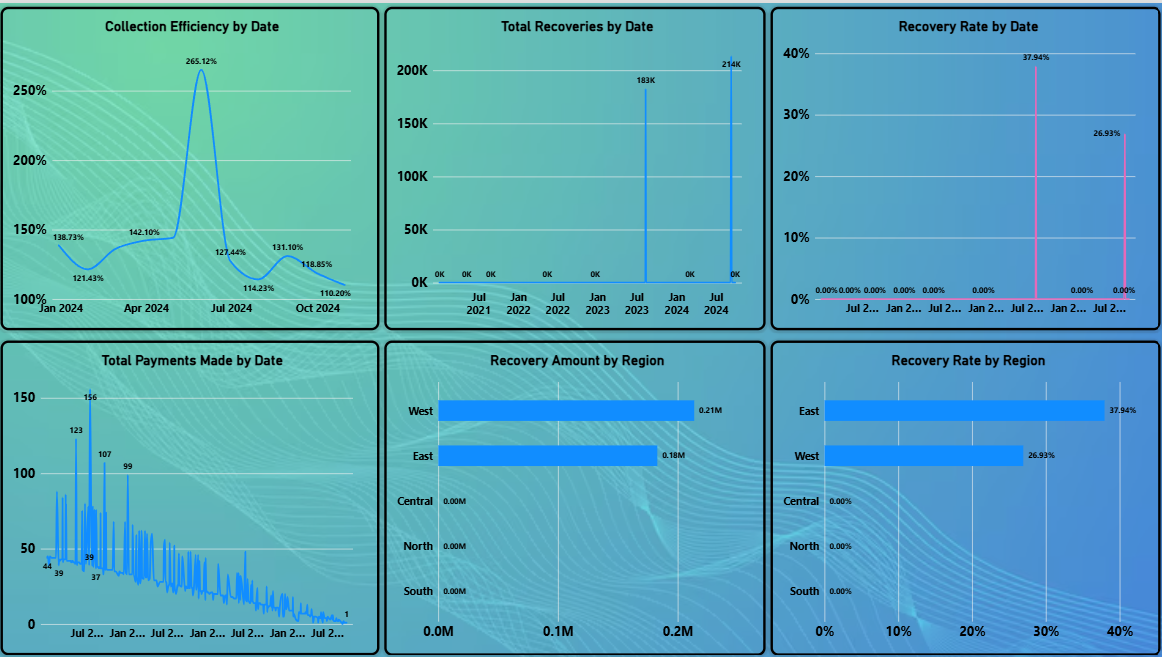

Layout of this report page (visuals, bound fields, positions):
{"tool":"powerbi","page":{"name":"Collection & Recovery Trends","canvas":[1920,1080],"ordinal":5},"visuals":[{"type":"lineChart","title":"Collection Efficiency by Date","fields":{"Y":["Sum(Monthly_Performance.CollectionEfficiency)"],"Category":["Calendar.Date"]},"box":[4.1,6.2,623.7,533.1],"z":0},{"type":"lineChart","fields":{"Category":["Calendar.Date"],"Y":["Measures (2).Total Recoveries"]},"box":[636,6.2,627.8,533.1],"z":1000},{"type":"lineChart","fields":{"Category":["Calendar.Date"],"Y":["Measures (2).Recovery Rate"]},"box":[1272,6.2,644.3,533.1],"z":2000},{"type":"lineChart","title":"Total Payments Made by Date","fields":{"Category":["Calendar.Date"],"Y":["Sum(Loan.TotalPaymentsMade)"]},"box":[4.1,555.7,623.7,518.7],"z":3000},{"type":"clusteredBarChart","title":"Recovery Amount by Region","fields":{"Category":["Loan.Region"],"Y":["Sum(Loan.RecoveryAmount)"]},"box":[636,556,628,519],"z":4000},{"type":"clusteredBarChart","fields":{"Category":["Loan.Region"],"Y":["Measures (2).Recovery Rate"]},"box":[1272,556,644,519],"z":5000}]}

Visuals, with their boxes in screenshot pixels (x1, y1, x2, y2), scaled from the page's 1920x1080 canvas onto the 1162x657 screenshot:
"Collection Efficiency by Date" lineChart: bbox=[2, 4, 380, 328]
lineChart - Calendar.Date x Measures (2).Total Recoveries: bbox=[385, 4, 765, 328]
lineChart - Calendar.Date x Measures (2).Recovery Rate: bbox=[770, 4, 1160, 328]
"Total Payments Made by Date" lineChart: bbox=[2, 338, 380, 654]
"Recovery Amount by Region" clusteredBarChart: bbox=[385, 338, 765, 654]
clusteredBarChart - Loan.Region x Measures (2).Recovery Rate: bbox=[770, 338, 1160, 654]
